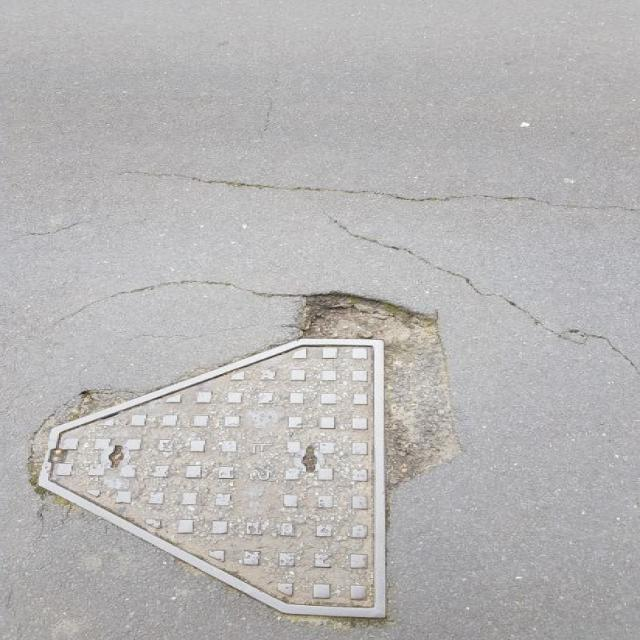Pothole: (298, 287, 474, 491)
